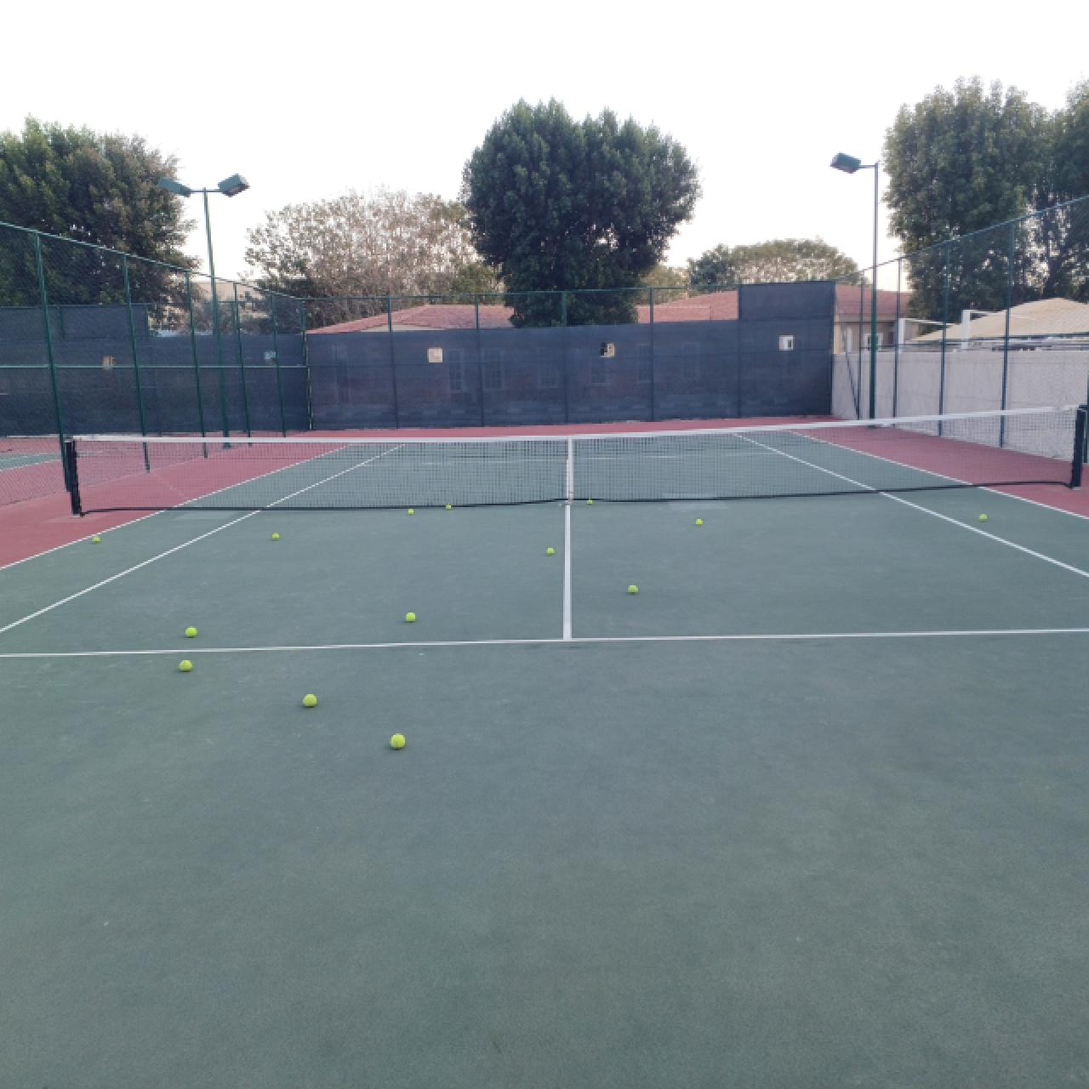tennis-ball: (389, 733, 407, 752), (302, 693, 318, 708), (177, 659, 194, 672), (626, 583, 640, 597), (184, 626, 198, 638), (405, 611, 417, 624), (545, 546, 556, 556), (270, 532, 281, 542), (91, 534, 102, 544), (978, 513, 989, 522), (694, 518, 704, 526), (407, 508, 415, 516), (586, 498, 593, 506), (445, 503, 453, 510)
